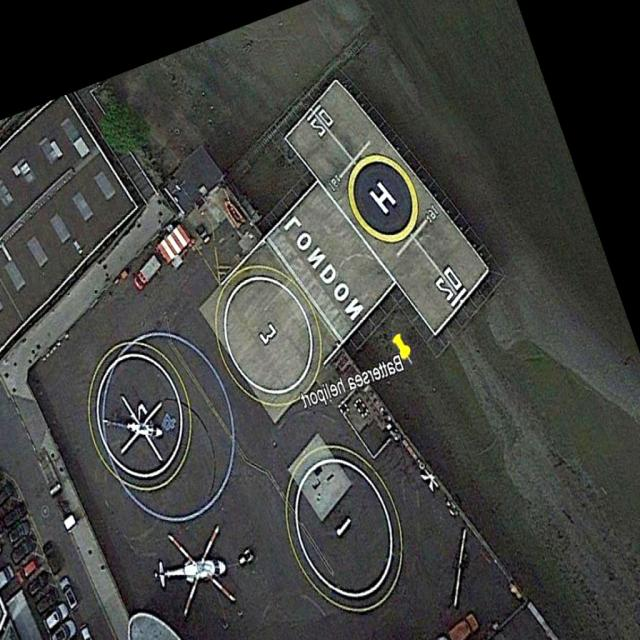helipad: (344, 151, 422, 243)
